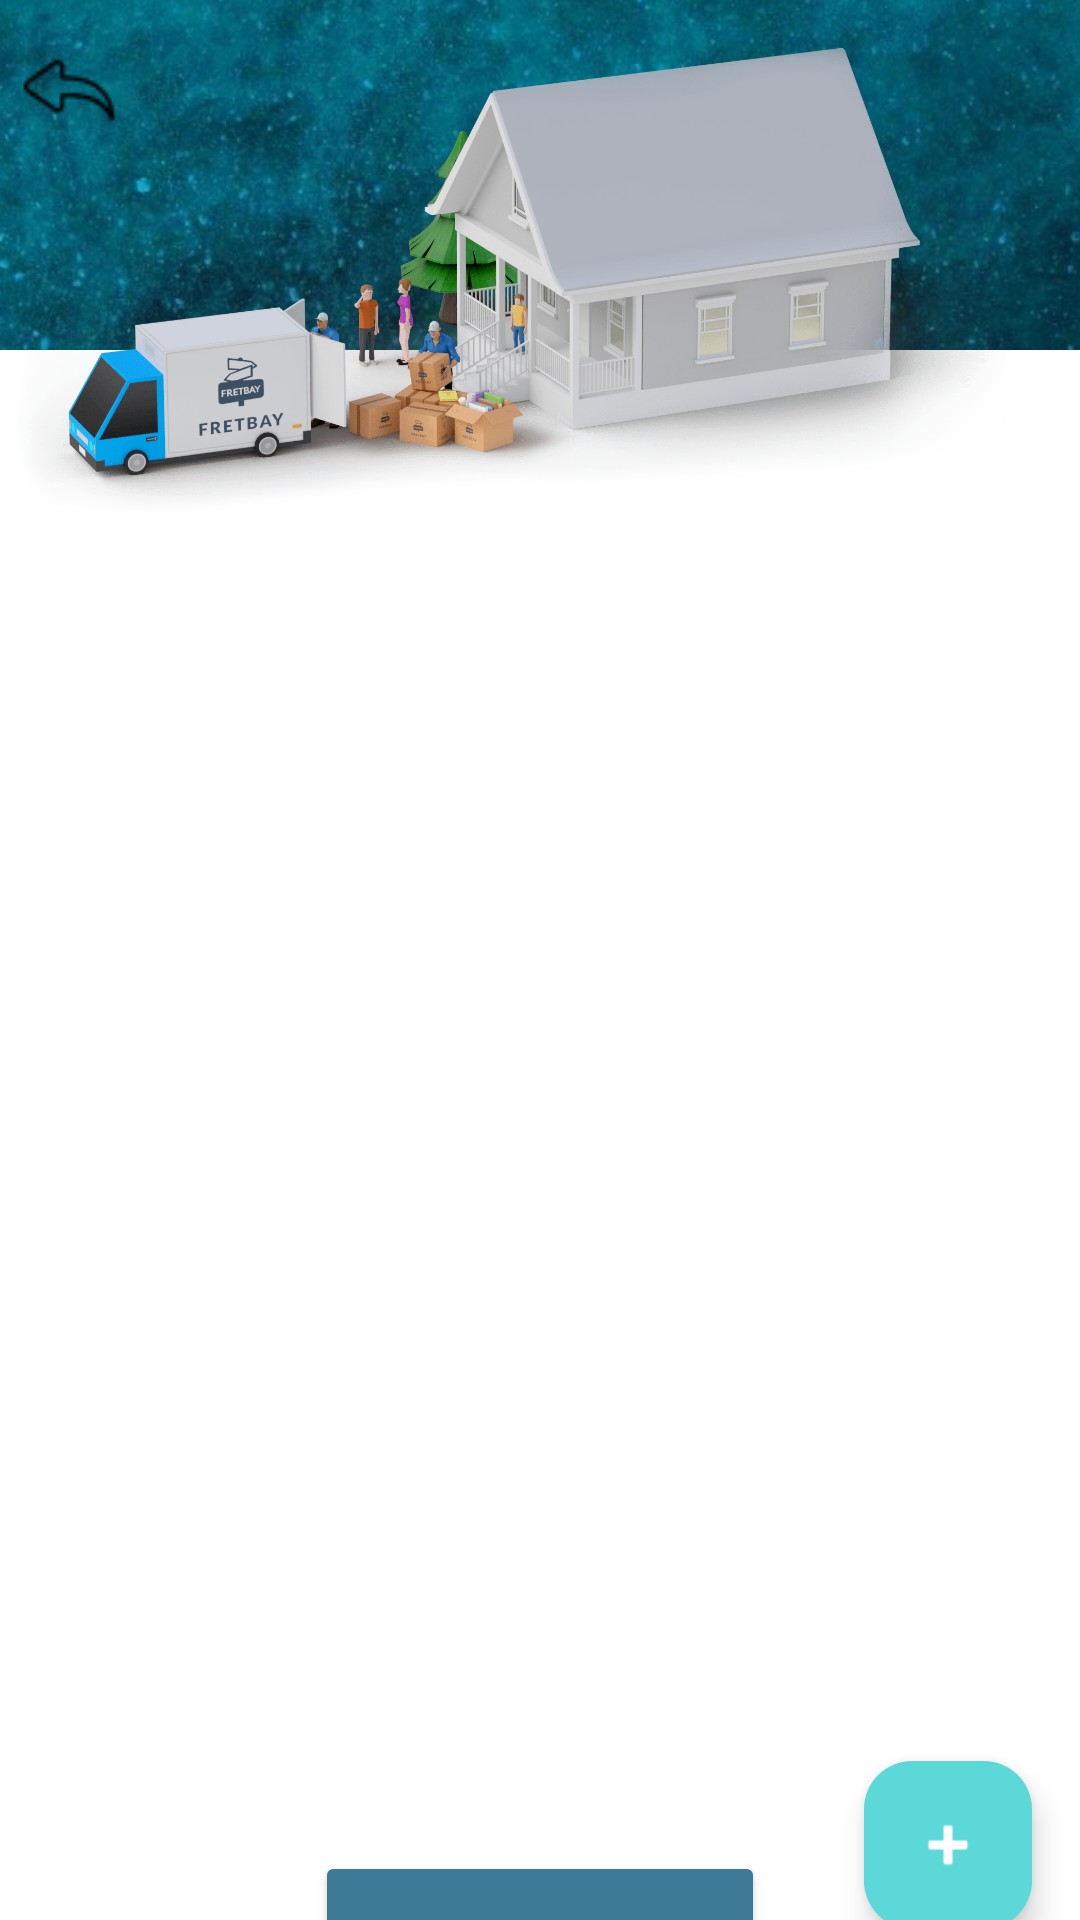

Icons on this 1080*1920 Android screen, each with the point to tap as point (x, y):
add: point (948, 1840)
